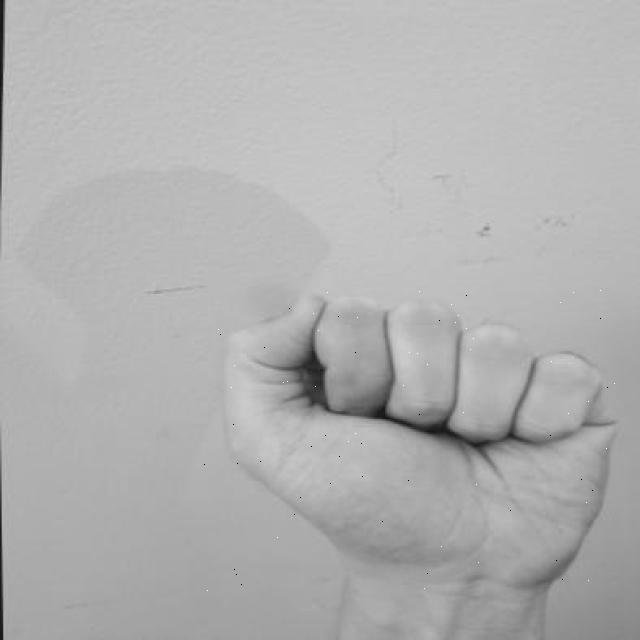A: (203, 284, 630, 595)
